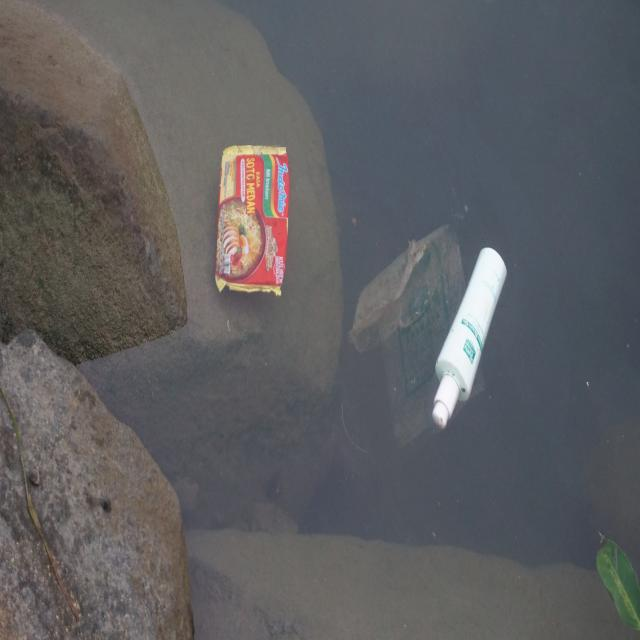Botol Plastik: (428, 241, 511, 441)
Bungkus Makanan: (350, 222, 486, 473), (216, 138, 295, 306)
